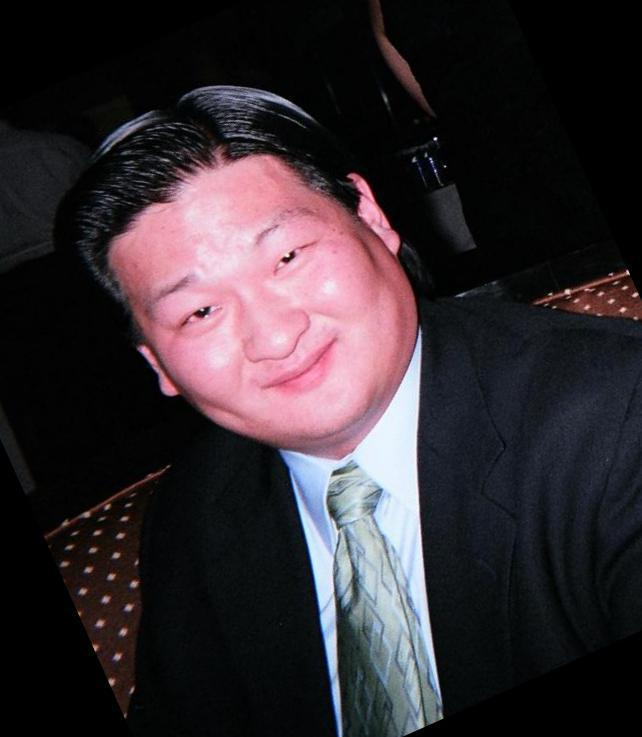Drunk: (124, 200, 392, 436)
